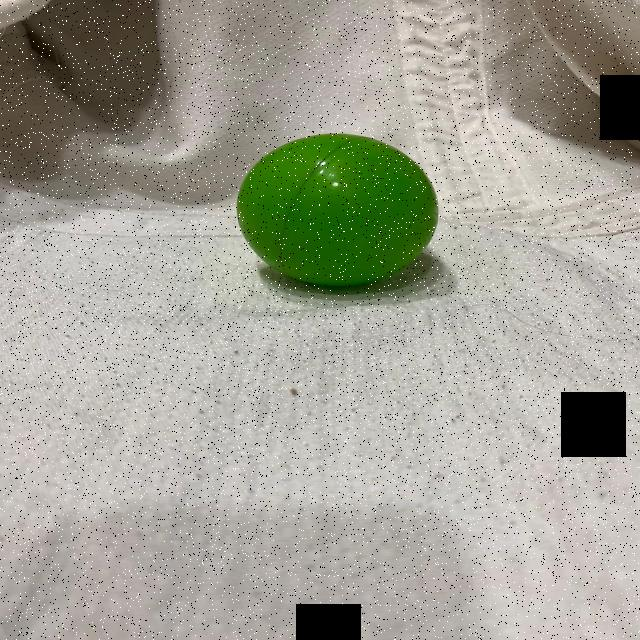ball: (230, 129, 445, 293)
